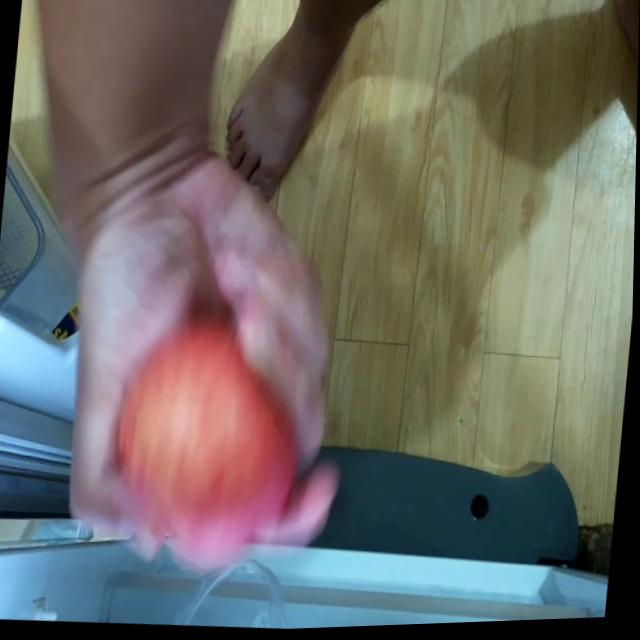apple: (103, 313, 303, 563)
